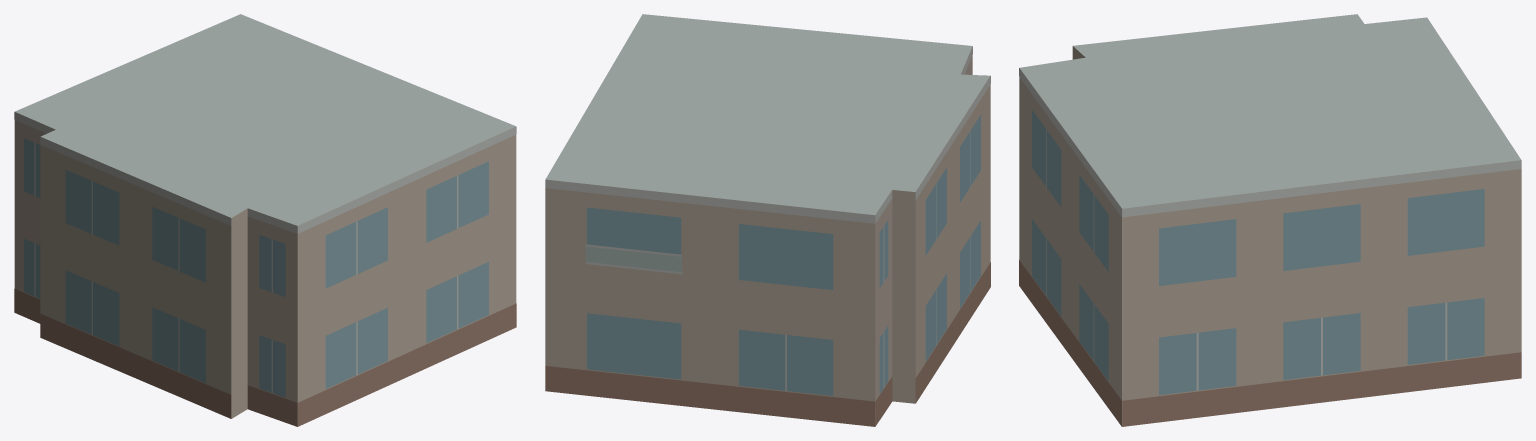
File: survey-upis-32926754.glb
3 renders of one model, left to right at view 1: azimuth 30°, elevation 25°; view 2: azimuth 150°, elevation 25°; view 3: azimuth 270°, elevation 25°, orthographic. The views are drawn at different scales.
Parts seen in each view (by area): view 1: survey-upis-32926754.tmp; view 2: survey-upis-32926754.tmp; view 3: survey-upis-32926754.tmp.
Boxes of the visible parts, left/top/right/bottom form: survey-upis-32926754.tmp: left=14, top=14, right=516, bottom=426; survey-upis-32926754.tmp: left=545, top=14, right=990, bottom=426; survey-upis-32926754.tmp: left=1019, top=14, right=1521, bottom=426.
Size of the model in its own units: 11.69 by 6.1 by 12.74.
